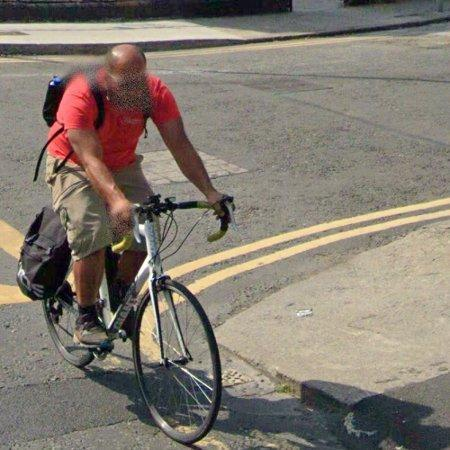bicycles: (17, 195, 222, 445)
